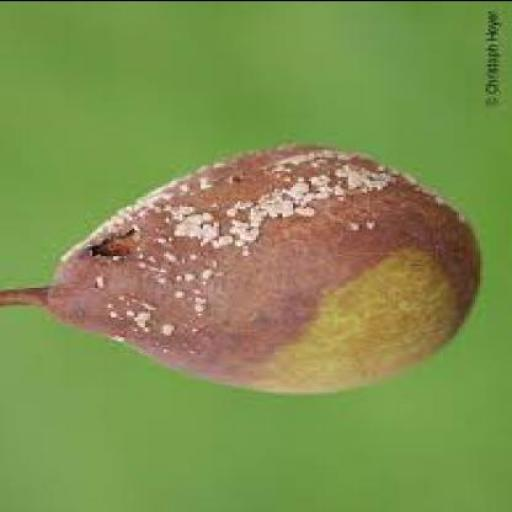biodegradable: (0, 146, 475, 399)
